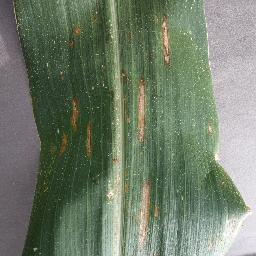Gray_Leaf_Spot: (201, 3, 212, 72), (157, 12, 170, 70), (138, 175, 147, 255), (67, 93, 81, 133), (140, 75, 148, 141), (83, 122, 93, 165), (104, 177, 118, 206), (122, 161, 130, 197), (56, 130, 65, 160), (12, 0, 21, 30), (118, 66, 131, 85), (88, 8, 101, 25), (152, 199, 161, 221), (219, 175, 231, 190), (111, 151, 120, 168), (206, 123, 216, 138), (58, 67, 66, 79), (74, 23, 81, 36), (69, 37, 75, 52), (243, 203, 248, 214), (47, 148, 56, 154)
